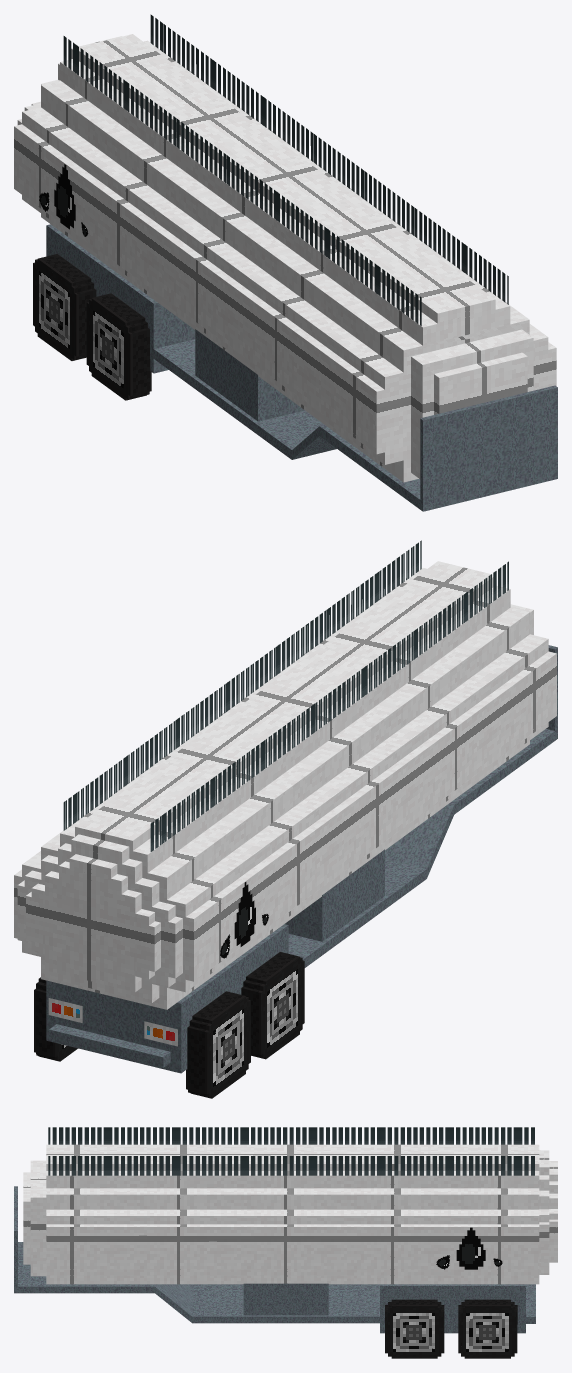
Rendered from BGN_TRUCK OIL CONTAINER.fbx.
3 renders of one model, top to bottom at view 1: azimuth 30°, elevation 25°; view 2: azimuth 150°, elevation 25°; view 3: azimuth 270°, elevation 25°, orthographic. The views are drawn at different scales.
Visible parts, largest first — view 1: BGN_TRUCK_OIL_CONTAINER; view 2: BGN_TRUCK_OIL_CONTAINER; view 3: BGN_TRUCK_OIL_CONTAINER.
Boxes of the visible parts, x1=… form: BGN_TRUCK_OIL_CONTAINER: x1=14, y1=14, x2=557, y2=511; BGN_TRUCK_OIL_CONTAINER: x1=14, y1=540, x2=557, y2=1098; BGN_TRUCK_OIL_CONTAINER: x1=14, y1=1127, x2=557, y2=1358.
Bounding box in the file's own units: 265 × 389 × 1018.
